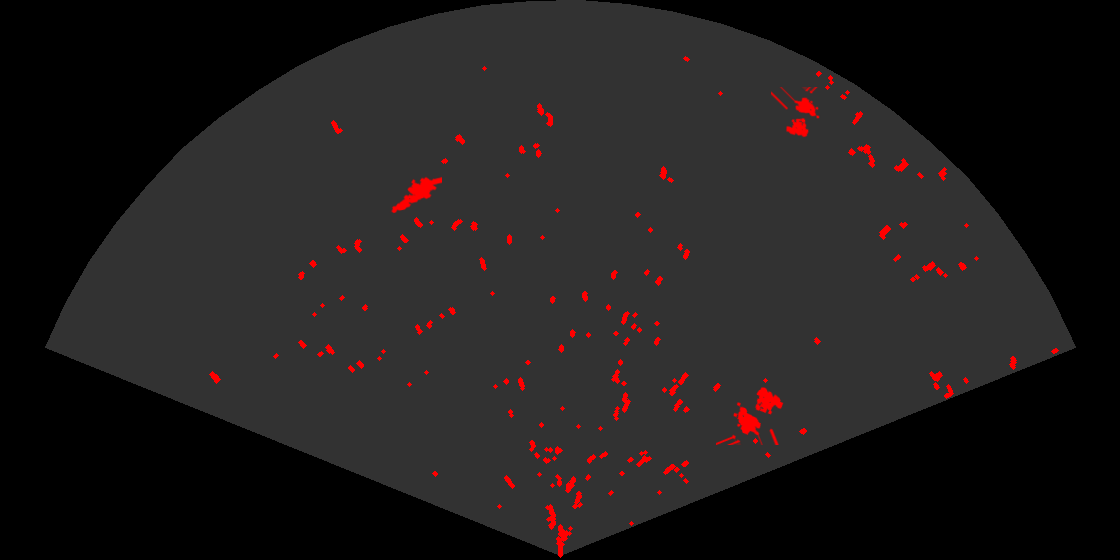cage: (716, 385, 785, 445), (771, 87, 821, 139)
frogman: (389, 175, 442, 215)
